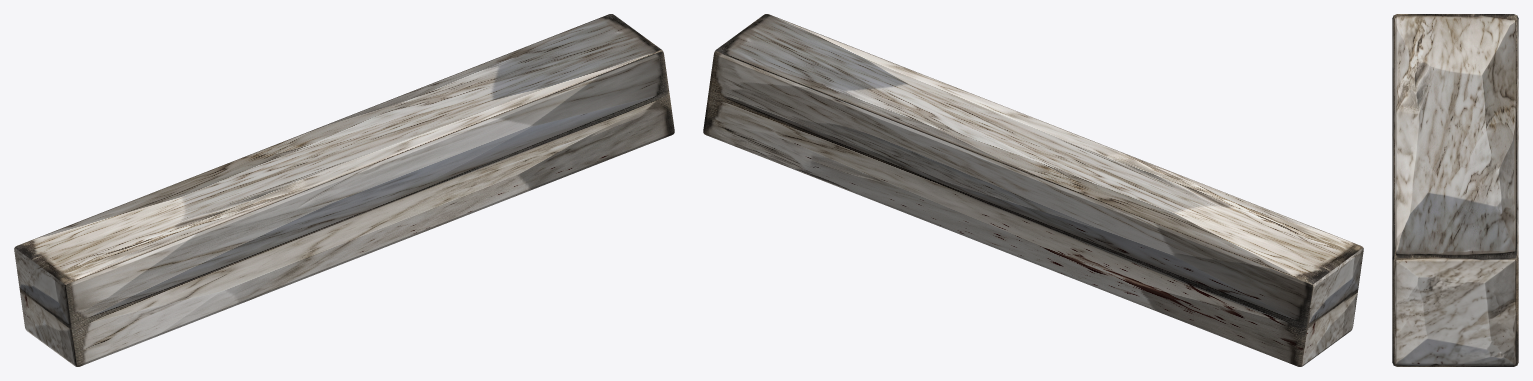
The model's file is fallen_column_walkable_LOD2.glb.
3 views of the same model, side by side, from view 1: azimuth 30°, elevation 25°; view 2: azimuth 150°, elevation 25°; view 3: azimuth 270°, elevation 25° (orthographic). The views are drawn at different scales.
Parts seen in each view (by area): view 1: LOD2_Column; view 2: LOD2_Column; view 3: LOD2_Column.
Part boxes in pixels (x1,y1,x2,y2): LOD2_Column: (14,14,674,366); LOD2_Column: (703,14,1363,366); LOD2_Column: (1392,14,1518,366).
Bounding box in the file's own units: 5.19 × 1.42 × 0.78.
1 material, 1 textured.
